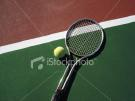tennis ball: (53, 46, 65, 59)
